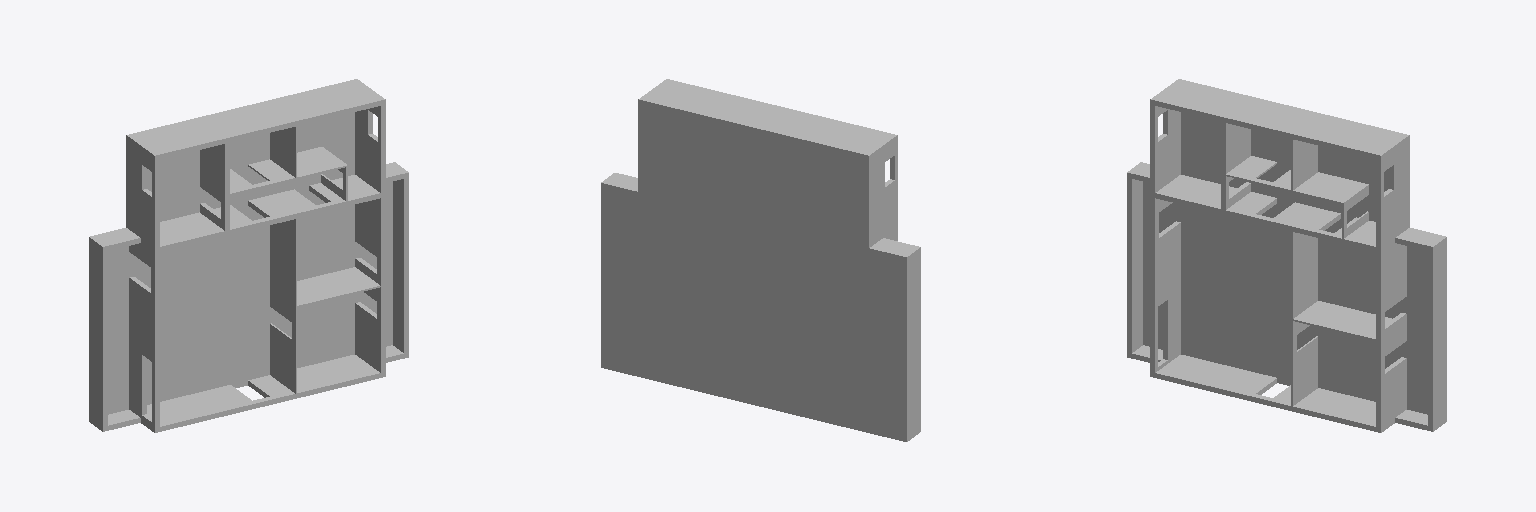
Rendered from casa.obj.
The picture shows the model from 3 angles: view 1: azimuth 30°, elevation 25°; view 2: azimuth 150°, elevation 25°; view 3: azimuth 330°, elevation 25°; orthographic projection.
Bounding box in the file's own units: 18.7 × 16.2 × 3.